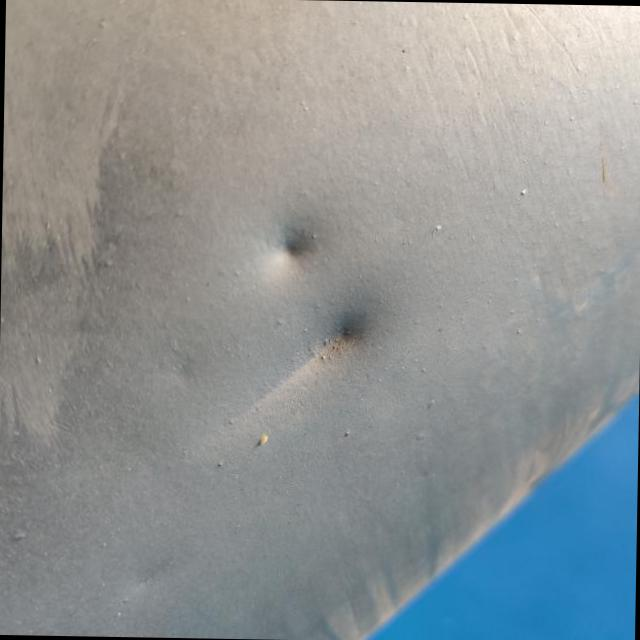Dent: (247, 289, 376, 418), (258, 213, 322, 287)
